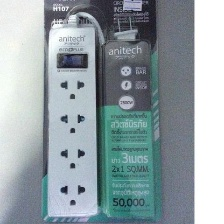book: (40, 0, 165, 224)
three_eye_plug: (46, 17, 102, 219)
